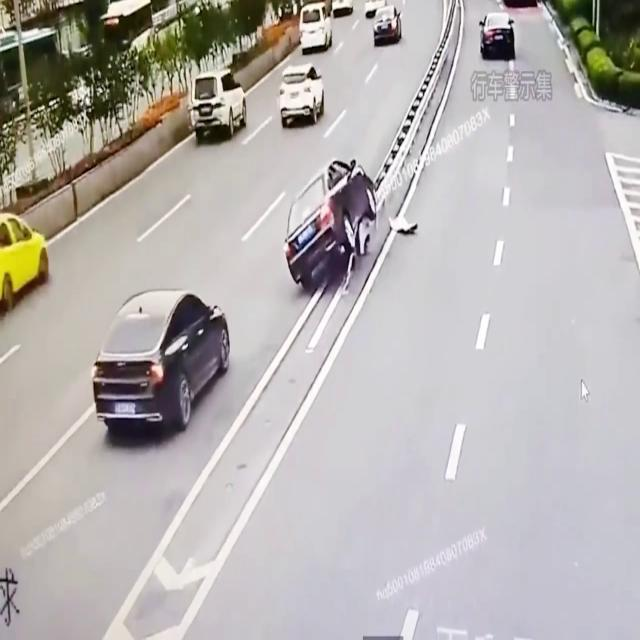multiple_accident: (267, 143, 435, 320)
normal: (83, 260, 237, 460), (183, 45, 342, 147), (0, 175, 68, 333)
